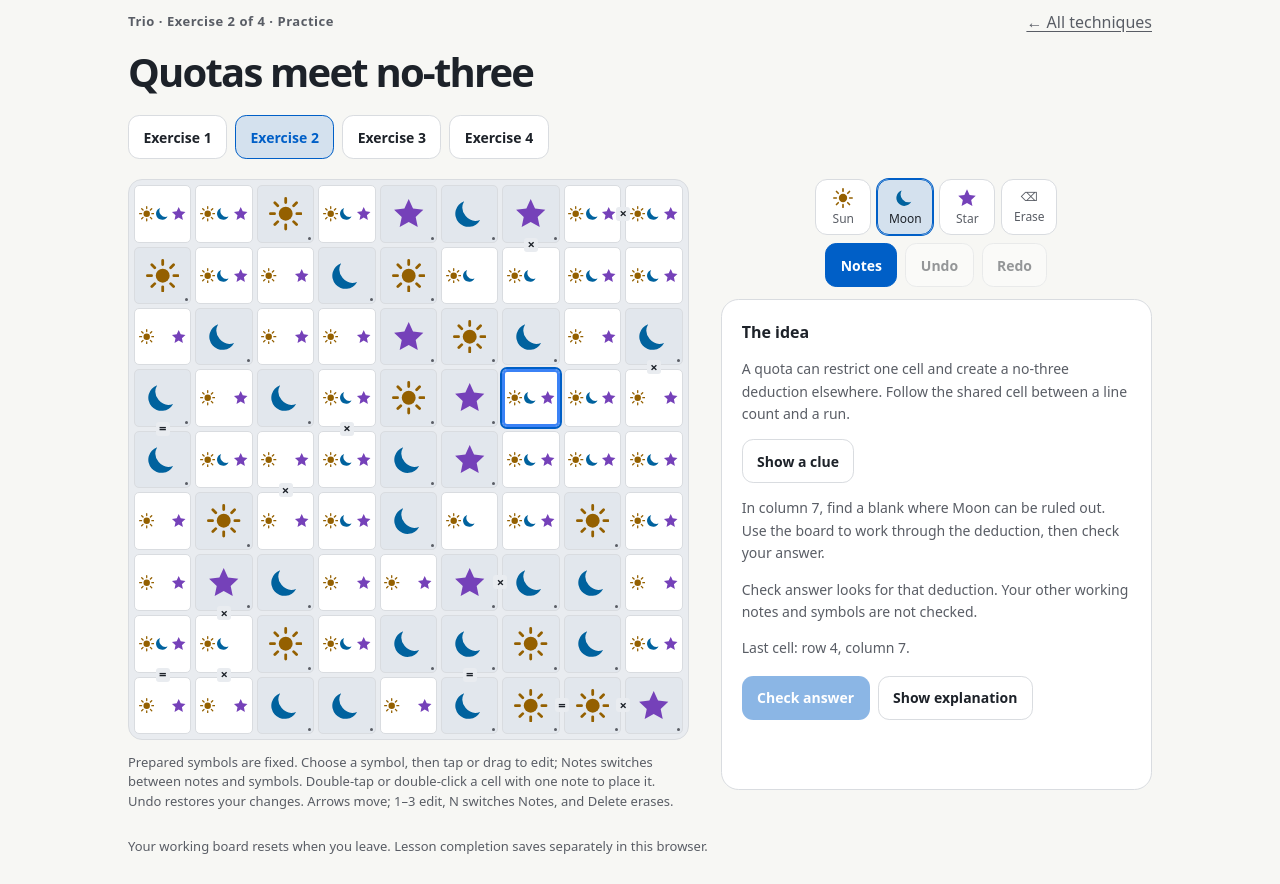
accepts an alternative candidate answer at 33 in trio-quota-no-three-2
Press 2 in the cell named "Row 4, column 7, Empty, notes Sun, Moon, Star", box [502,370,560,427]
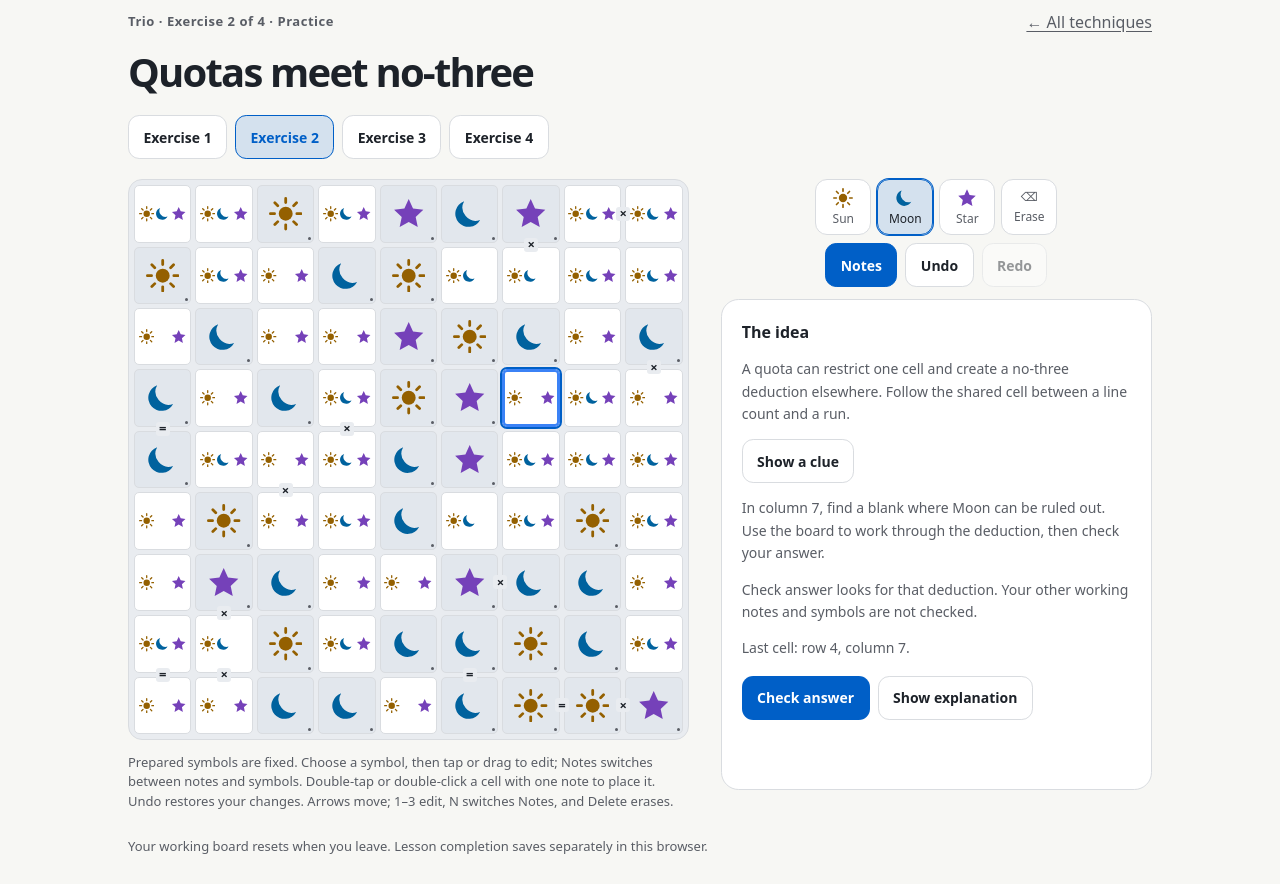
Click the button "Check answer".
click(806, 698)  # box [742,676,870,720]
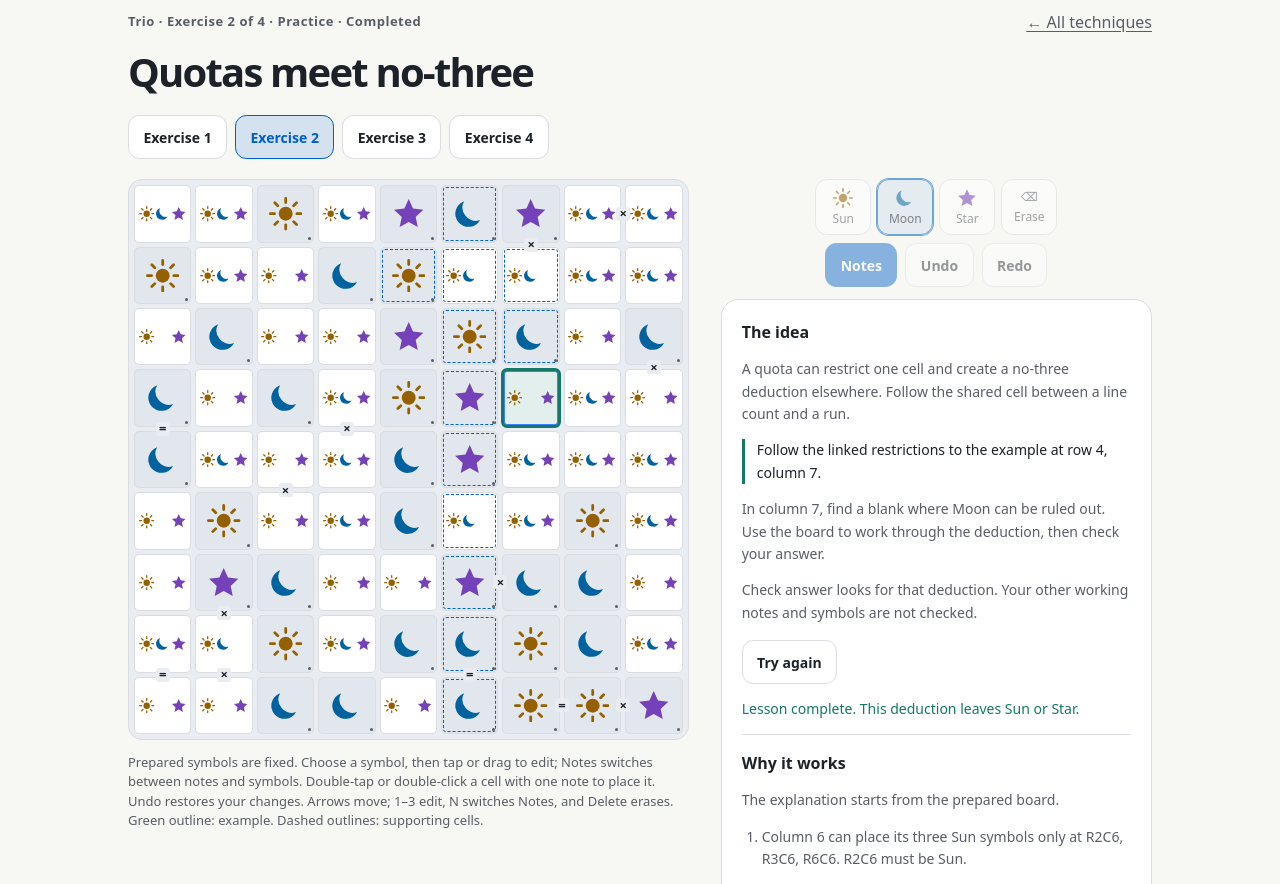
Now the message "Lesson complete. This deduction leaves Sun or Star." is shown, box [742,698,1131,720]
